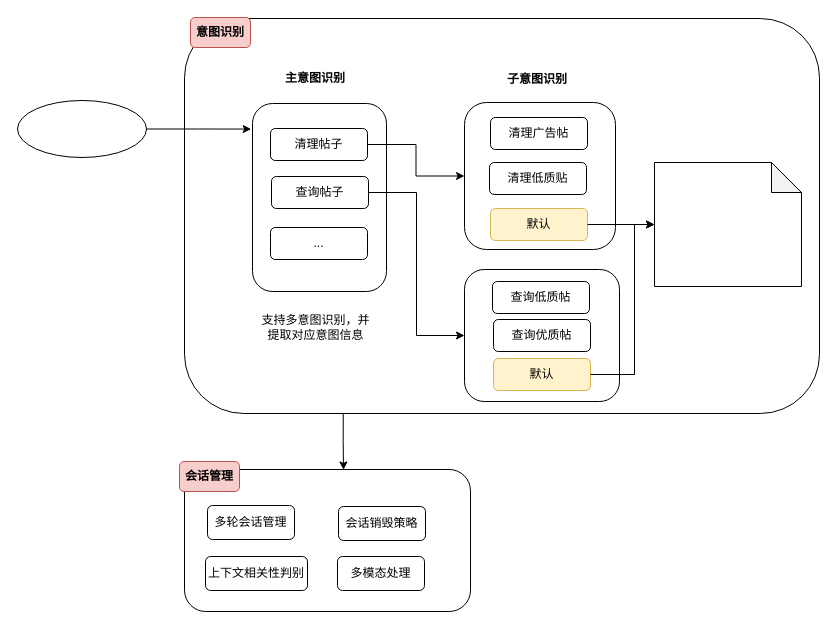
The diagram is 837 pixels wide and 629 high, and some of its shapes have lost their labels. The shapes that lost their labels are listed below. From the top down, each one's centre as x and y in pixels, then its label:
At (x=81, y=129): "QQ机器人消息接收".
At (x=728, y=224): "识别不出来是具体哪一个子意图时，可以通过返回提示，让用户进行信息补充".
